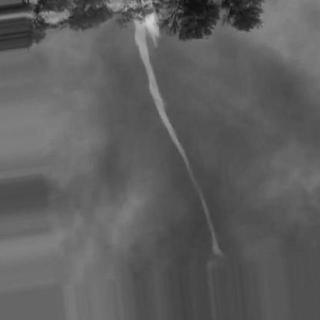Fire: (170, 133, 226, 259)
